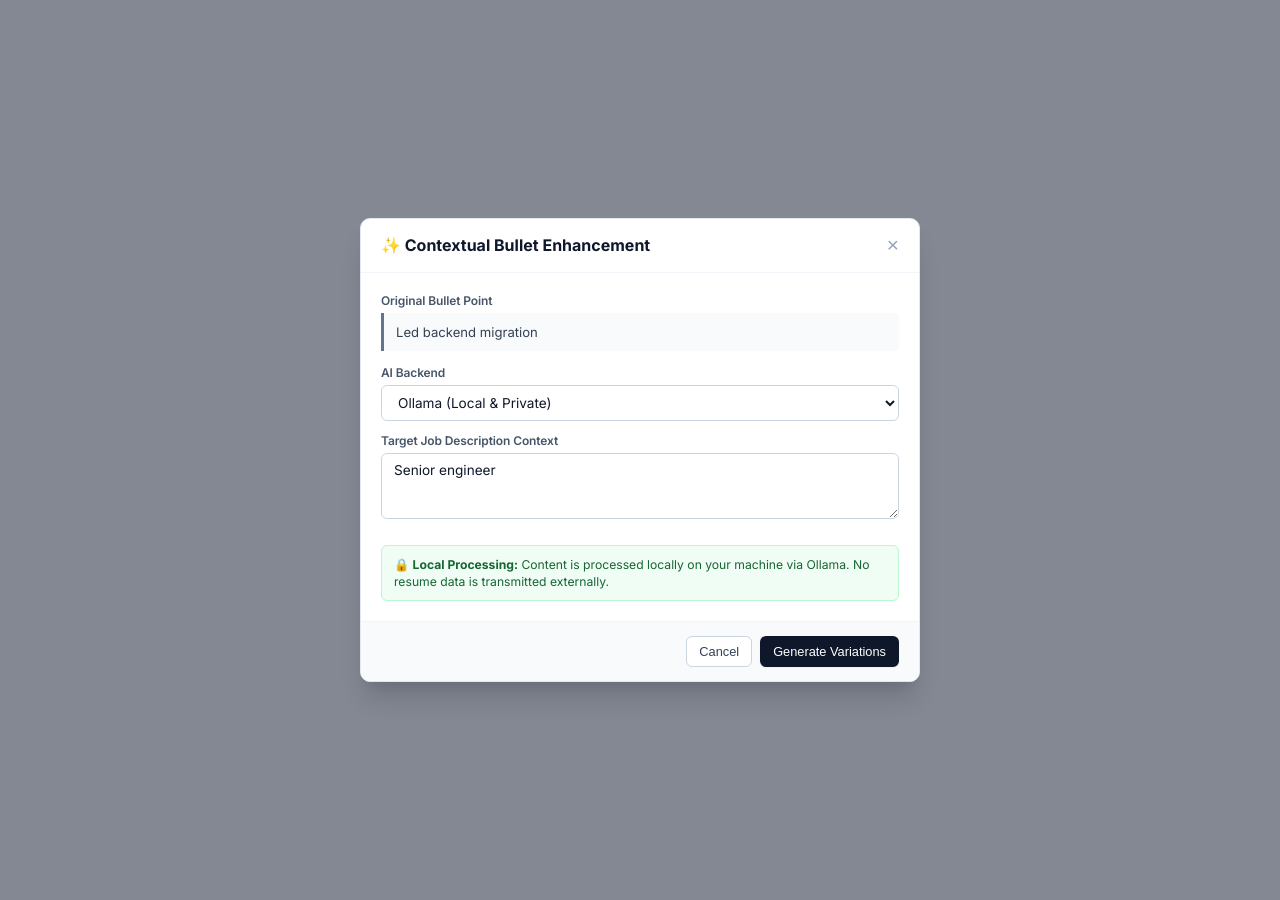
Test: EnhanceBulletModal › switches to cloud disclosure when Claude backend is selected
Select "Anthropic Claude (Cloud)" in the dropdown at (640, 403), box [381,385,899,421]
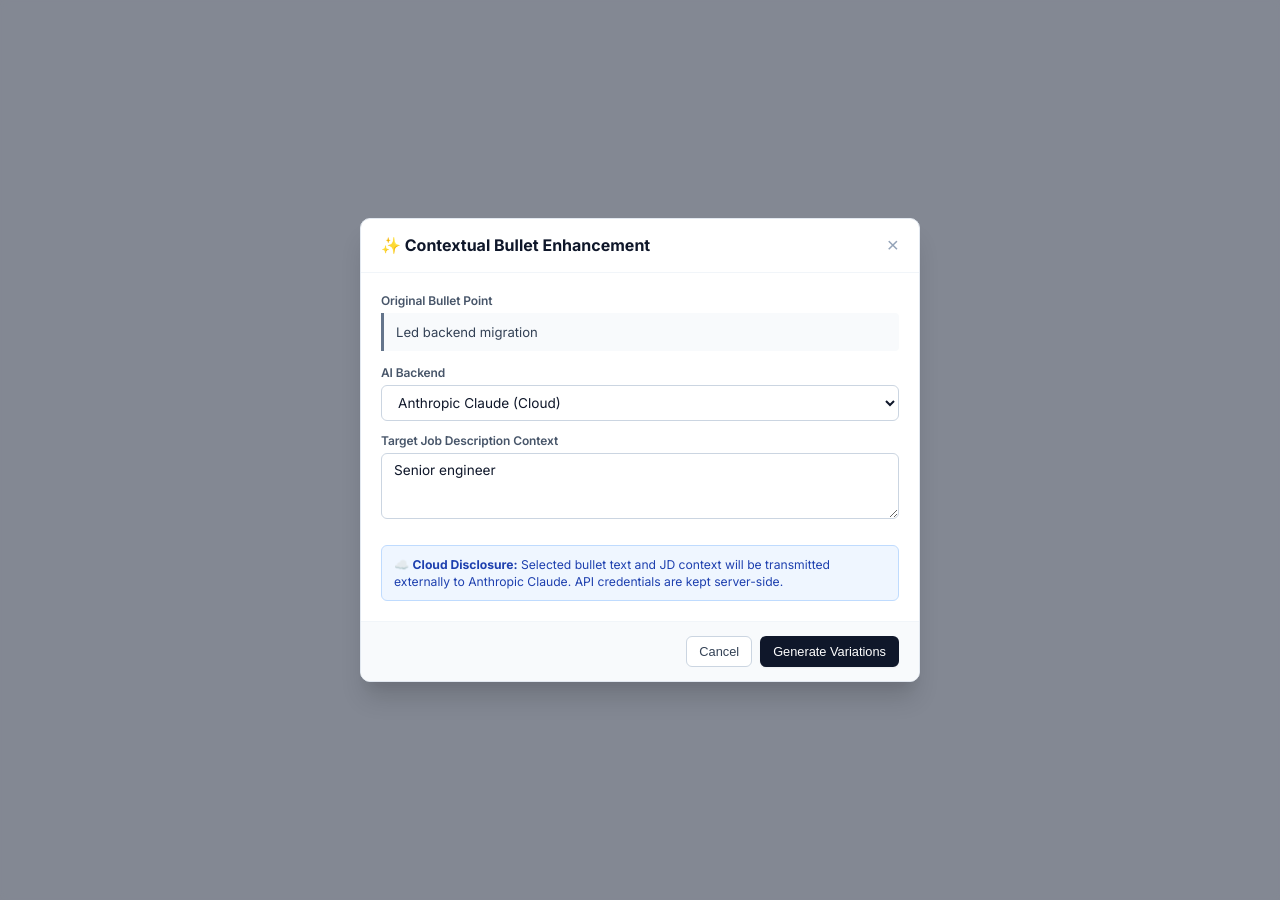
Check: the text "transmitted externally to Anthropic Claude" is shown, box [394,556,886,590]
